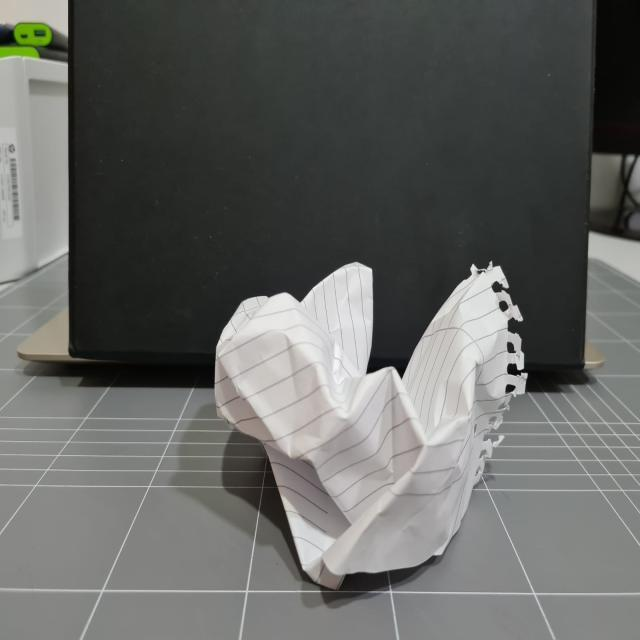Paper: (211, 262, 527, 588)
